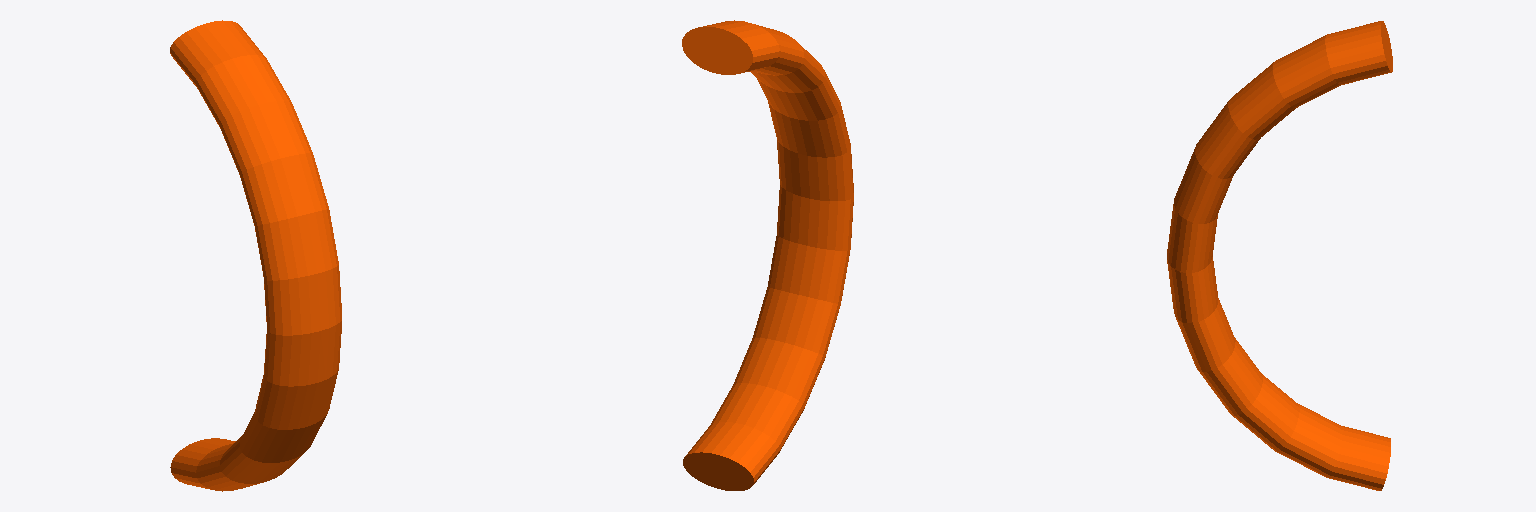
URDF robot description (Mug_62634df2ad8f19b87d1b7935311a2ed0_body):
<?xml version="1.0" ?>
<robot name="Mug_62634df2ad8f19b87d1b7935311a2ed0_body">
   <material name="obj_color">
      <color rgba="1.0 0.423529411765 0.0392156862745 1.0"/>
   </material>
   <link name="top">
      <inertial>
         <origin rpy="0.0007018761063556403 0.001021580251110499 0.001021582444127534" xyz="0.0005192339861777315 0.009706554565144253 -0.00438414453192172"/>
         <mass value="0.684731822191712"/>
         <inertia ixx="0.001021582339040489" ixy="4.68416883049023e-10" ixz="-5.368457661815302e-11" iyy="0.001021580356197534" iyz="1.128399471592767e-11" izz="0.0007018761063556496"/>
      </inertial>
      <visual>
         <origin rpy="0 0 0" xyz="0 0 0"/>
         <geometry>
            <mesh filename="top_watertight_tiny.stl" scale="1 1 1"/>
         </geometry>
         <material name="obj_color"/>
      </visual>
      <collision>
         <origin rpy="0 0 0" xyz="0 0 0"/>
         <geometry>
            <mesh filename="top_watertight_tiny.obj" scale="1 1 1"/>
         </geometry>
      </collision>
   </link>
   <link name="bottom">
      <inertial>
         <origin rpy="4.144676372625813e-06 1.62697771935029e-05 1.927445660617206e-05" xyz="-0.000268965639178621 -0.04725483438170974 -0.005755780451188983"/>
         <mass value="0.03518262624046812"/>
         <inertia ixx="1.927444673014744e-05" ixy="5.447443973486117e-09" ixz="1.469408931326907e-12" iyy="1.626958152957048e-05" iyz="-4.992145858589341e-08" izz="4.144881912582849e-06"/>
      </inertial>
      <visual>
         <origin rpy="0 0 0" xyz="0 0 0"/>
         <geometry>
            <mesh filename="bottom_watertight_tiny.stl" scale="1 1 1"/>
         </geometry>
         <material name="obj_color"/>
      </visual>
      <collision>
         <origin rpy="0 0 0" xyz="0 0 0"/>
         <geometry>
            <mesh filename="bottom_watertight_tiny.obj" scale="1 1 1"/>
         </geometry>
      </collision>
   </link>
   <link name="world"/>
   <joint name="world_to_base" type="fixed">
      <origin xyz="0 0 0"/>
      <axis xyz="0 0 0"/>
      <parent link="world"/>
      <child link="bottom"/>
   </joint>
   <joint name="rotation" type="revolute">
      <origin xyz="0 0 0"/>
      <axis xyz="0 0 -1"/>
      <parent link="bottom"/>
      <child link="top"/>
      <dynamics damping="1.0" friction="1.0"/>
      <limit effort="0.1" velocity="0.1" lower="0" upper="0.001"/>
   </joint>
</robot>

--- Render facts (derived) ---
The picture shows the robot from 3 angles, left to right: view 1: azimuth 30°, elevation 25°; view 2: azimuth 150°, elevation 25°; view 3: azimuth 270°, elevation 25°; orthographic projection.
Model Mug_62634df2ad8f19b87d1b7935311a2ed0_body with 3 links and 2 joints (1 revolute, 1 fixed), rooted at world, posed every joint at zero.
Visible links, largest first — view 1: bottom; view 2: bottom; view 3: bottom.
Boxes of the visible links, x1=… form: bottom: x1=170, y1=20, x2=341, y2=491; bottom: x1=682, y1=20, x2=853, y2=490; bottom: x1=1167, y1=21, x2=1392, y2=490.
Size in the robot's own frame: 0.0143 by 0.0396 by 0.0885 metres.
Meshes: 2 distinct files referenced, 1 mesh visuals loaded (1 binary STL); not drawn: 1 (reference not matched to a file when rendering).